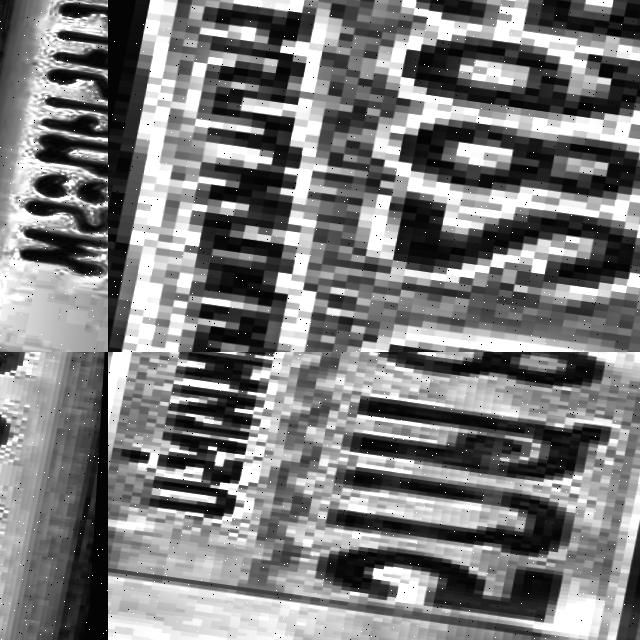license-plate: (108, 0, 640, 352), (108, 352, 640, 640), (0, 0, 108, 352), (0, 352, 108, 640)
